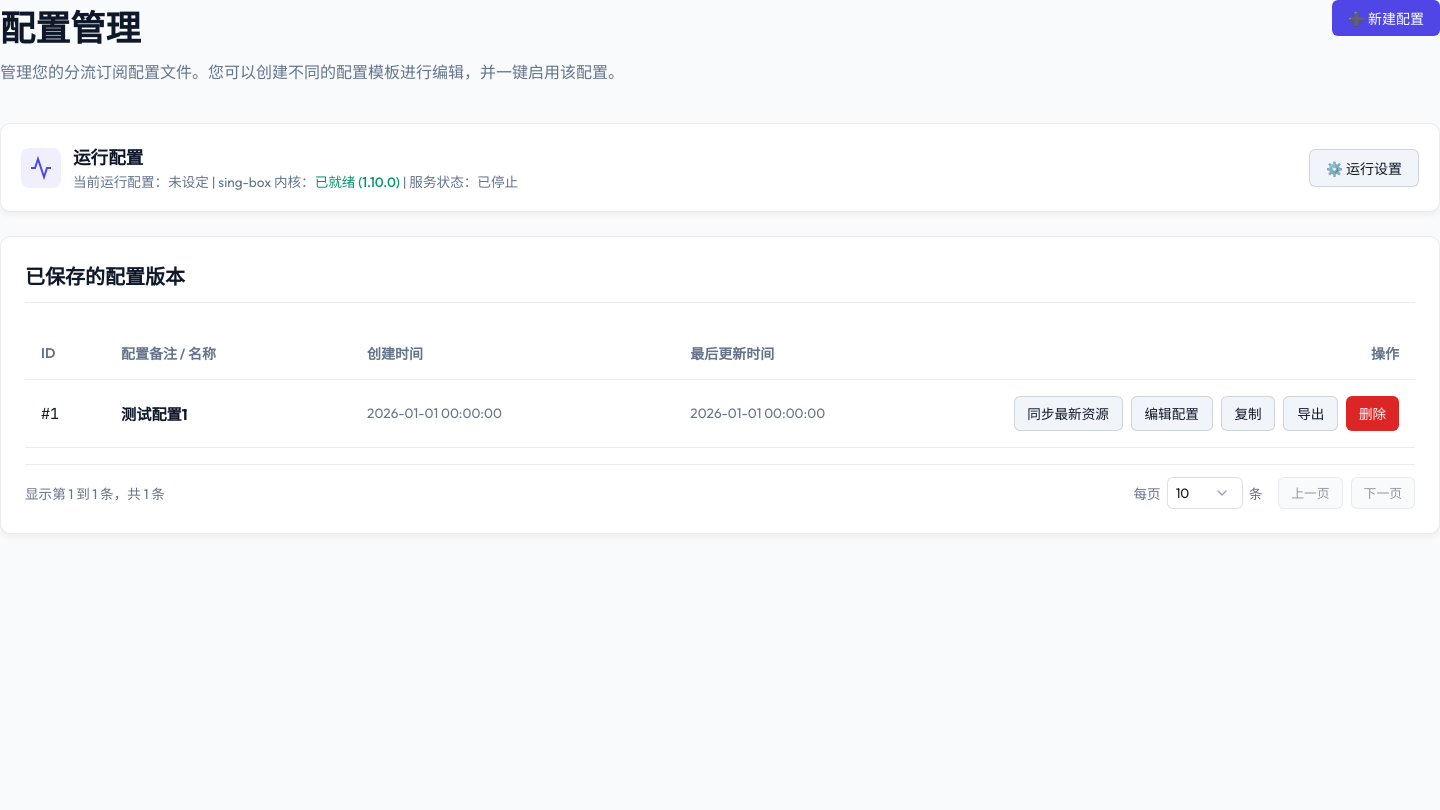
Test: ConfigEditorView - groupImportModal 交互 › 搜索框与清空按钮 › 输入搜索词后：清空按钮显示
Click the button "编辑配置" at {"x": 1172, "y": 413}, box [1131,396,1213,431]
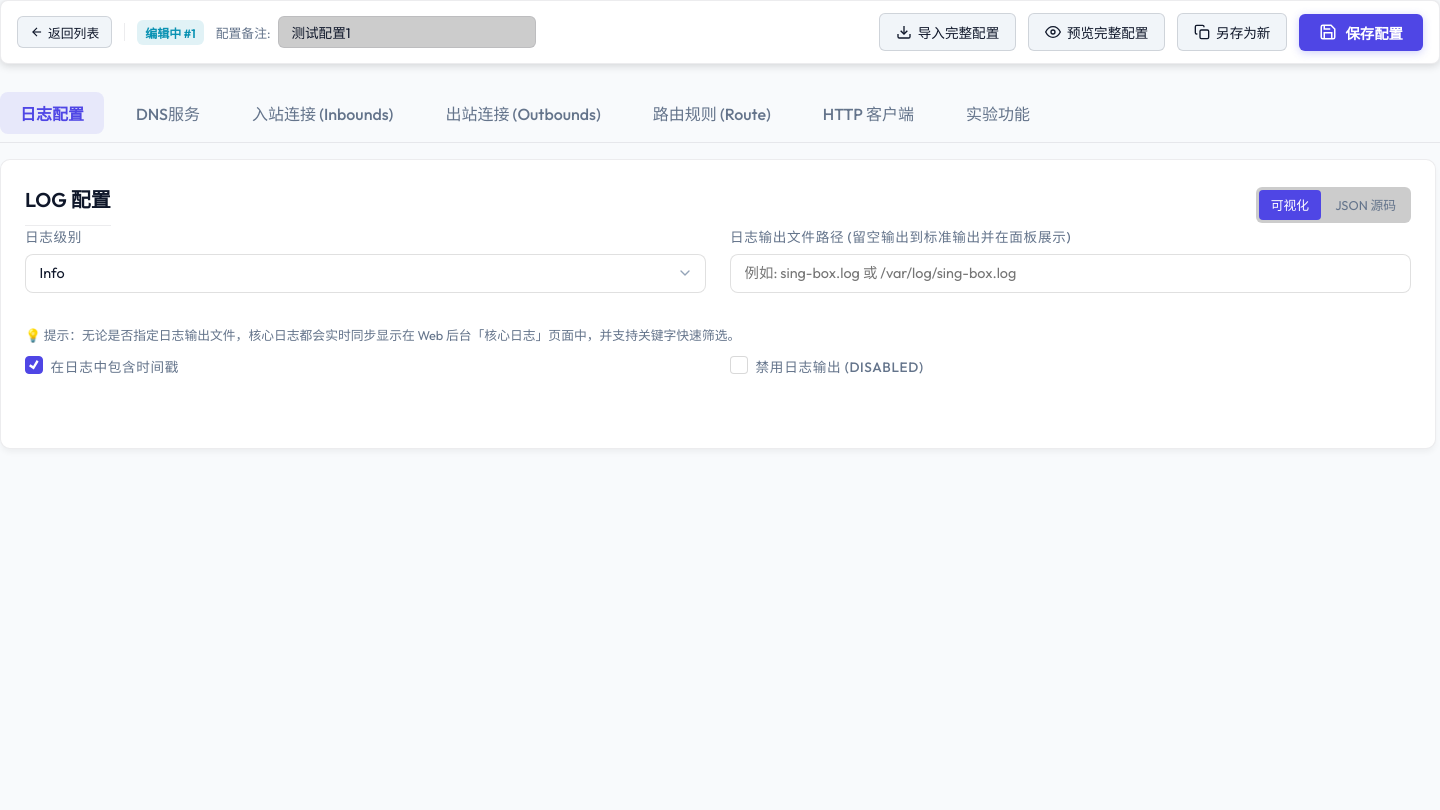
Click the text with class "tab" showing "出站连接 (Outbounds)" at {"x": 523, "y": 114}, box [445,104,601,124]
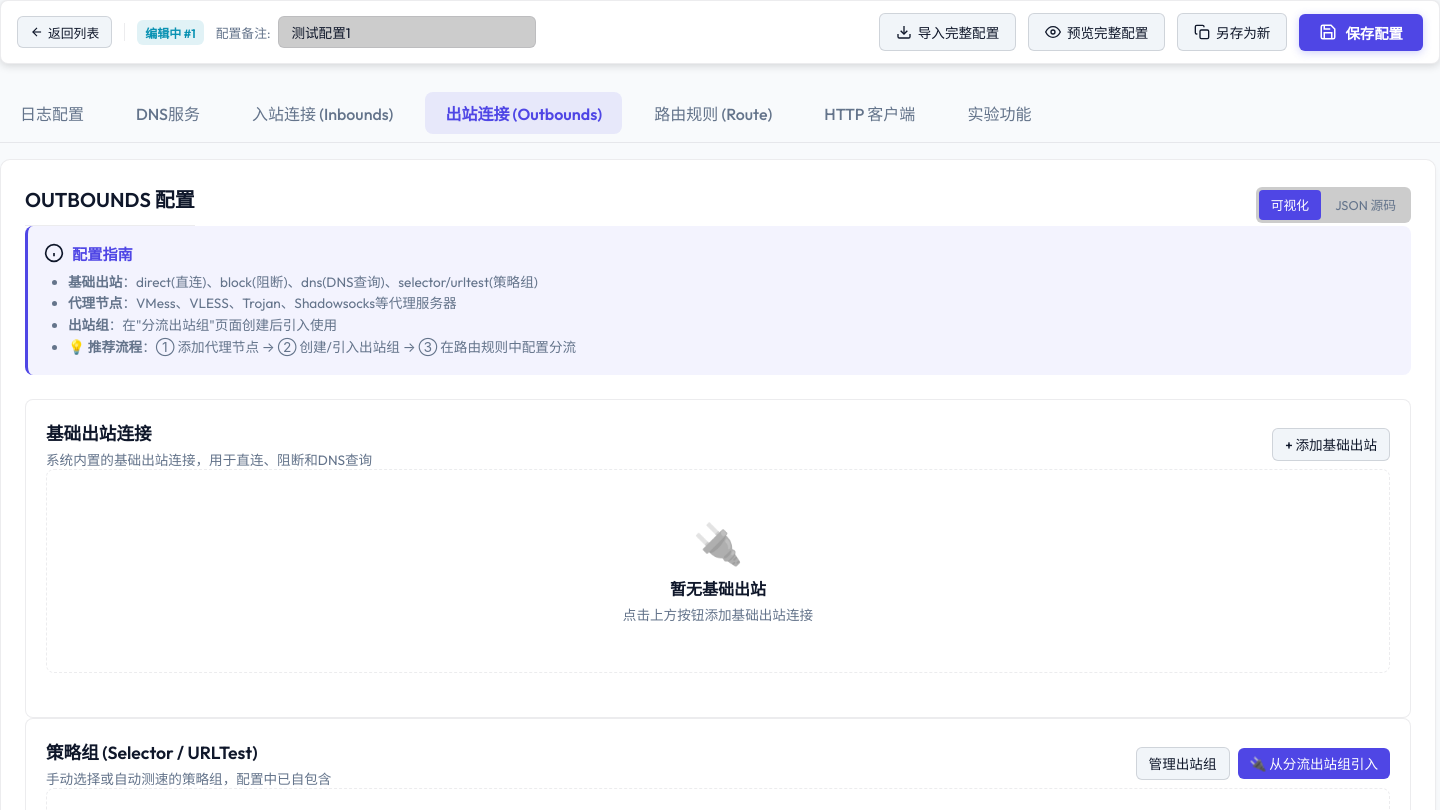
Click the button "🔌 从分流出站组引入" at {"x": 1314, "y": 763}, box [1238,748,1390,779]
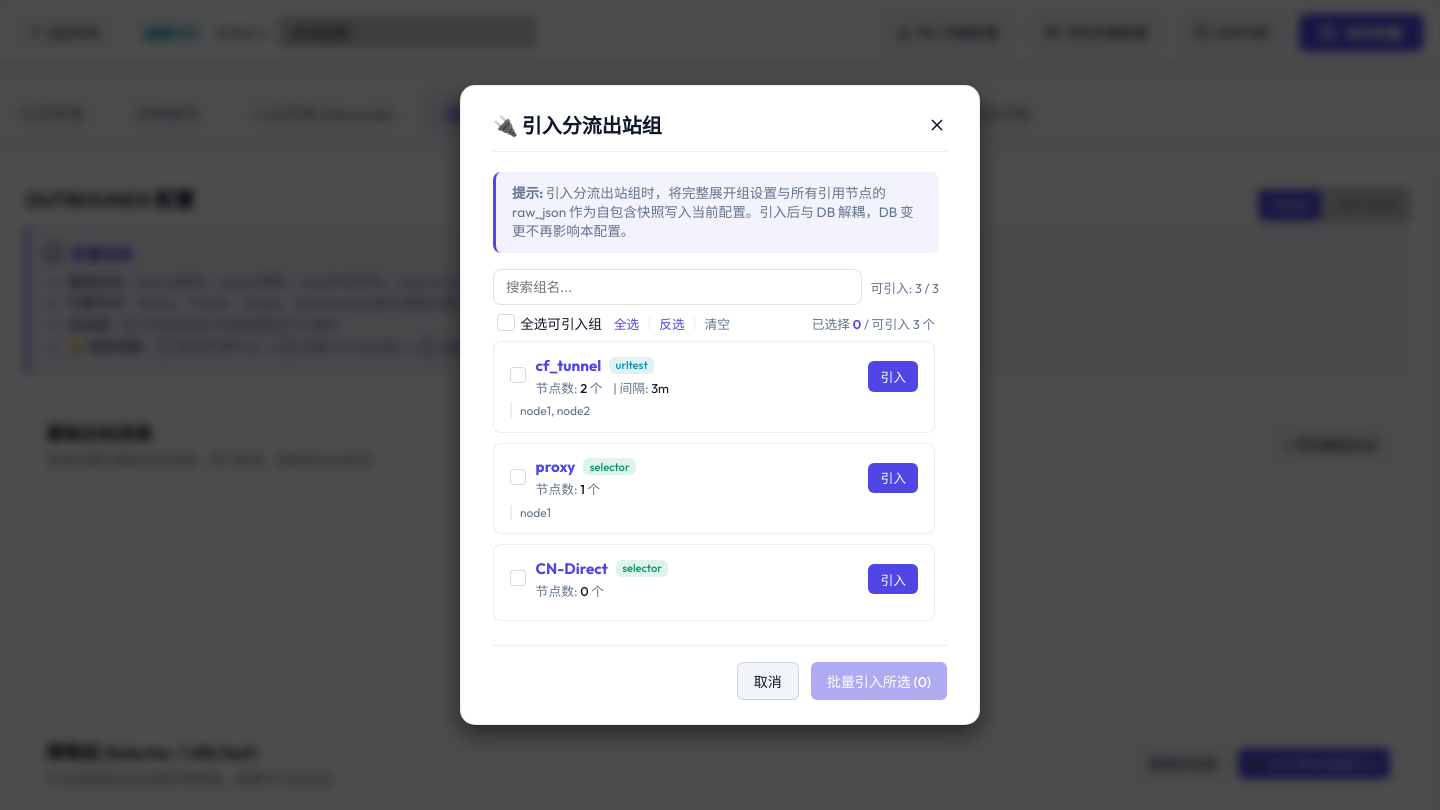
Type "cf" into the field with placeholder "搜索组名..." at {"x": 678, "y": 287}, box [493,269,862,305]
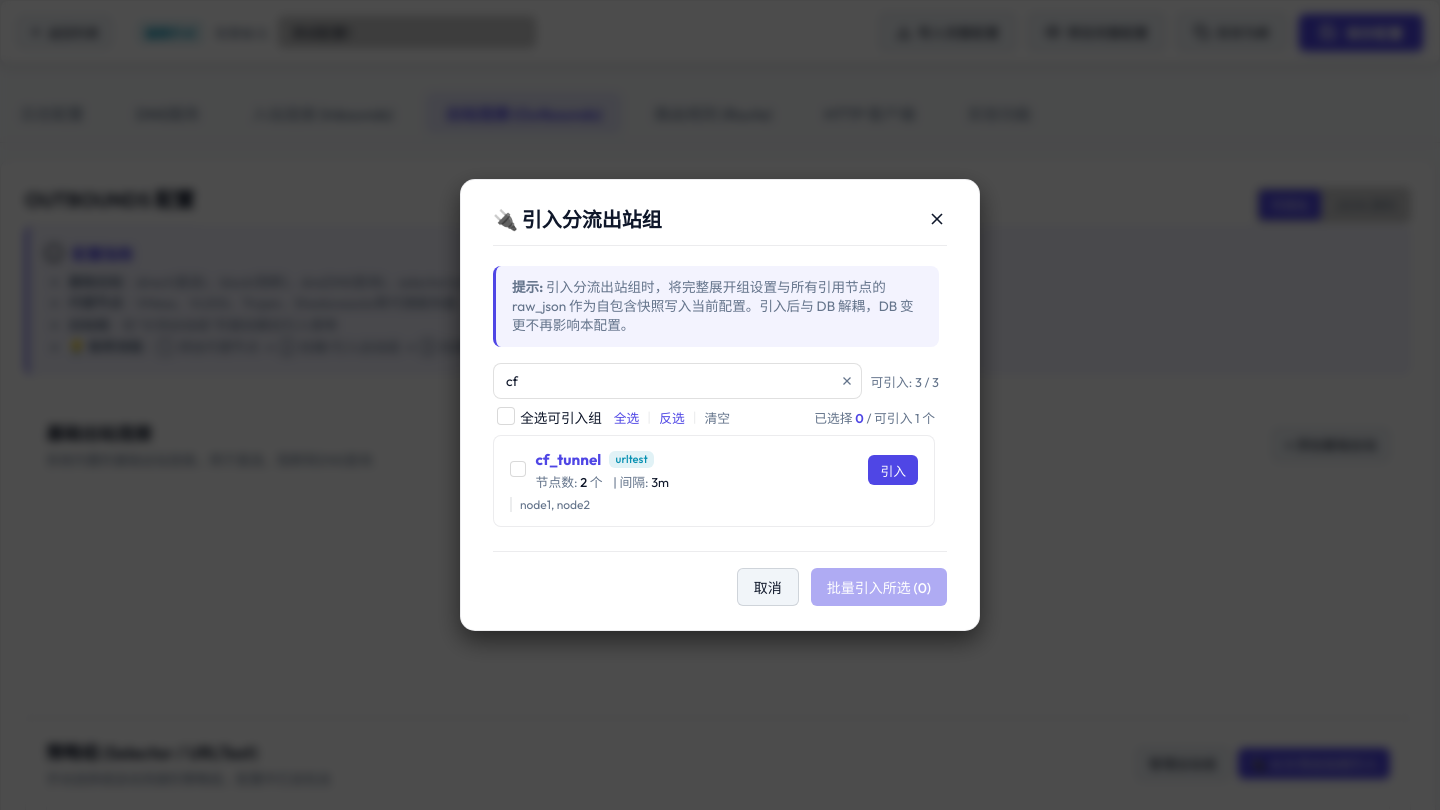
Expected: the button titled "清空搜索" is shown, [838,372,856,390]
